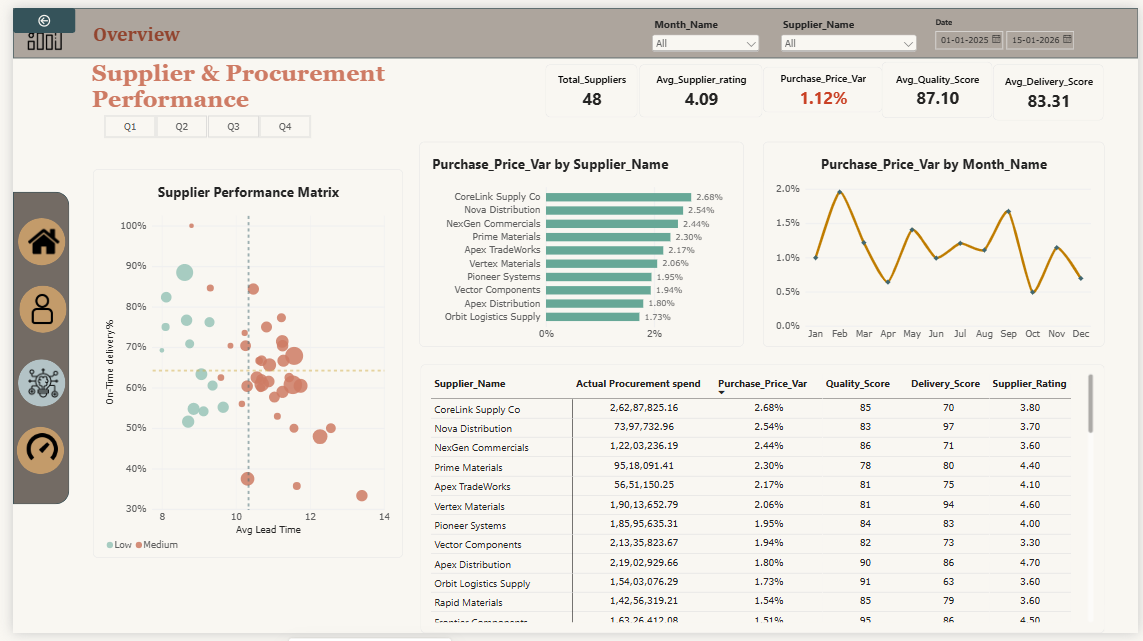

This screenshot's page, from the dashboard's own definition file:
{"tool":"powerbi","page":{"name":"Supplier Performance","canvas":[1800,1000],"ordinal":2},"visuals":[{"type":"shape","box":[0,0,1800.3,80.5],"z":0},{"type":"textbox","box":[127.4,21.8,201.2,46.9],"z":1000},{"type":"image","box":[10,13.3,81.7,55],"z":2000},{"type":"cardVisual","fields":{"Data":["2nd page measures.Total_Suppliers"]},"box":[851.2,90.5,147.5,85.5],"z":3000},{"type":"cardVisual","fields":{"Data":["2nd page measures.Avg_Supplier_rating"]},"box":[1002,90.5,197.7,85.5],"z":4000},{"type":"cardVisual","fields":{"Data":["2nd page measures.Purchase_Price_Var"]},"box":[1199.7,93.8,191,73.7],"z":5000},{"type":"cardVisual","fields":{"Data":["2nd page measures.Avg_Quality_Score"]},"box":[1390.8,85.5,177.6,90.5],"z":6000},{"type":"textbox","box":[125.7,82.1,625,95.5],"z":7000},{"type":"slicer","fields":{"Values":["Dim_date.Month_Name"]},"box":[1018.8,13.4,181,67],"z":8000},{"type":"slicer","fields":{"Values":["Dim_Supplier.Supplier_Name"]},"box":[1223.2,13.4,226.2,67],"z":9000},{"type":"slicer","fields":{"Values":["Dim_date.Date"]},"box":[1467.8,13.4,306.6,55.3],"z":10000},{"type":"slicer","fields":{"Values":["Dim_date.Quarter"]},"box":[125.7,170.9,368.6,38.5],"z":11000},{"type":"cardVisual","fields":{"Data":["2nd page measures.Avg_Delivery_Score"]},"box":[1568.4,90.5,177.6,90.5],"z":12000},{"type":"scatterChart","title":"Supplier Performance Matrix","fields":{"Category":["Dim_Supplier.Supplier_Name"],"Series":["Dim_Supplier.Risk_Level"],"Size":["1st page measures.Actual Procurement spend"],"X":["1st page measures.Avg Lead Time"],"Y":["1st page measures.On-Time delivery%"]},"box":[127.3,258,496,621.7],"z":13000},{"type":"clusteredBarChart","fields":{"Category":["Dim_Supplier.Supplier_Name"],"Y":["2nd page measures.Purchase_Price_Var"]},"box":[650.3,214.2,519.1,328],"z":14000},{"type":"lineChart","fields":{"Category":["Dim_date.Month_Name"],"Y":["2nd page measures.Purchase_Price_Var"]},"box":[1200.3,214.2,546.1,328],"z":15000},{"type":"pivotTable","fields":{"Rows":["Dim_Supplier.Supplier_Name"],"Values":["1st page measures.Actual Procurement spend","2nd page measures.Purchase_Price_Var","Sum(Dim_Supplier.Quality_Score)","Sum(Dim_Supplier.Delivery_Score)","Sum(Dim_Supplier.Supplier_Rating)"]},"box":[652.2,569.3,1094.1,430.3],"z":16000},{"type":"actionButton","box":[0,0,100,40],"z":17000},{"type":"shape","box":[0,293,90,500],"z":18000},{"type":"shape","box":[6.5,669.4,75.8,75.8],"z":19000},{"type":"shape","box":[8.1,562.9,75.8,75.8],"z":20000},{"type":"shape","box":[10,443.3,75.8,75.8],"z":21000},{"type":"shape","box":[8.1,335.5,75.8,75.8],"z":22000},{"type":"image","box":[23.3,345,50,55],"z":23000},{"type":"image","box":[6.7,453.3,81.7,55],"z":24000},{"type":"image","box":[15,576.7,65,48.3],"z":25000},{"type":"image","box":[5,678.3,81.7,55],"z":26000}]}

Visuals, with their boxes on the page's 1800x1000 design canvas (x1, y1, x2, y2). These are canvas units, not pixel positions in the 1143x641 screenshot, which may show the page scaled, cropped or inside an application window:
shape: x1=0, y1=0, x2=1800, y2=80
textbox: x1=127, y1=22, x2=329, y2=69
image: x1=10, y1=13, x2=92, y2=68
cardVisual - 2nd page measures.Total_Suppliers: x1=851, y1=90, x2=999, y2=176
cardVisual - 2nd page measures.Avg_Supplier_rating: x1=1002, y1=90, x2=1200, y2=176
cardVisual - 2nd page measures.Purchase_Price_Var: x1=1200, y1=94, x2=1391, y2=168
cardVisual - 2nd page measures.Avg_Quality_Score: x1=1391, y1=86, x2=1568, y2=176
textbox: x1=126, y1=82, x2=751, y2=178
slicer - Dim_date.Month_Name: x1=1019, y1=13, x2=1200, y2=80
slicer - Dim_Supplier.Supplier_Name: x1=1223, y1=13, x2=1449, y2=80
slicer - Dim_date.Date: x1=1468, y1=13, x2=1774, y2=69
slicer - Dim_date.Quarter: x1=126, y1=171, x2=494, y2=209
cardVisual - 2nd page measures.Avg_Delivery_Score: x1=1568, y1=90, x2=1746, y2=181
"Supplier Performance Matrix" scatterChart: x1=127, y1=258, x2=623, y2=880
clusteredBarChart - Dim_Supplier.Supplier_Name x 2nd page measures.Purchase_Price_Var: x1=650, y1=214, x2=1169, y2=542
lineChart - Dim_date.Month_Name x 2nd page measures.Purchase_Price_Var: x1=1200, y1=214, x2=1746, y2=542
pivotTable - Dim_Supplier.Supplier_Name x 1st page measures.Actual Procurement spend: x1=652, y1=569, x2=1746, y2=1000
actionButton: x1=0, y1=0, x2=100, y2=40
shape: x1=0, y1=293, x2=90, y2=793
shape: x1=6, y1=669, x2=82, y2=745
shape: x1=8, y1=563, x2=84, y2=639
shape: x1=10, y1=443, x2=86, y2=519
shape: x1=8, y1=336, x2=84, y2=411
image: x1=23, y1=345, x2=73, y2=400
image: x1=7, y1=453, x2=88, y2=508
image: x1=15, y1=577, x2=80, y2=625
image: x1=5, y1=678, x2=87, y2=733
